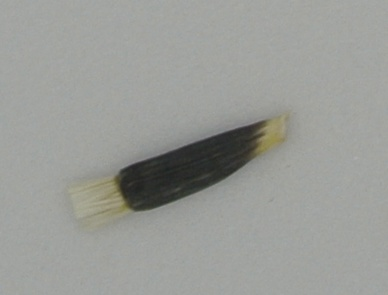เมล็ดดีติดกัน: (65, 111, 291, 236)
